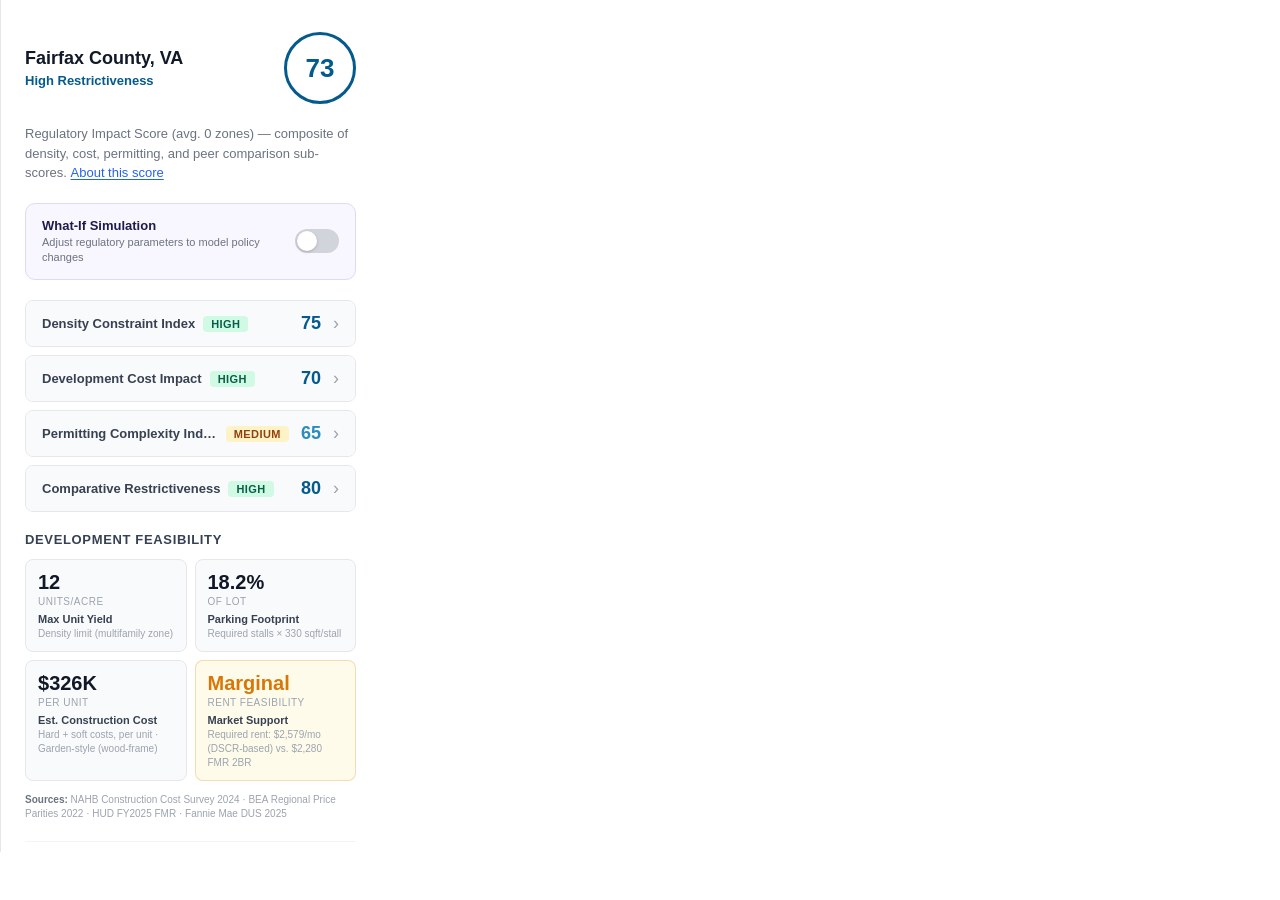
Test case: ScorePanel › shows disclaimer in methodology modal
The image size is (1280, 900).
Click the button "About this score" at (117, 172), box [70,165,164,180]
(page scrolled)
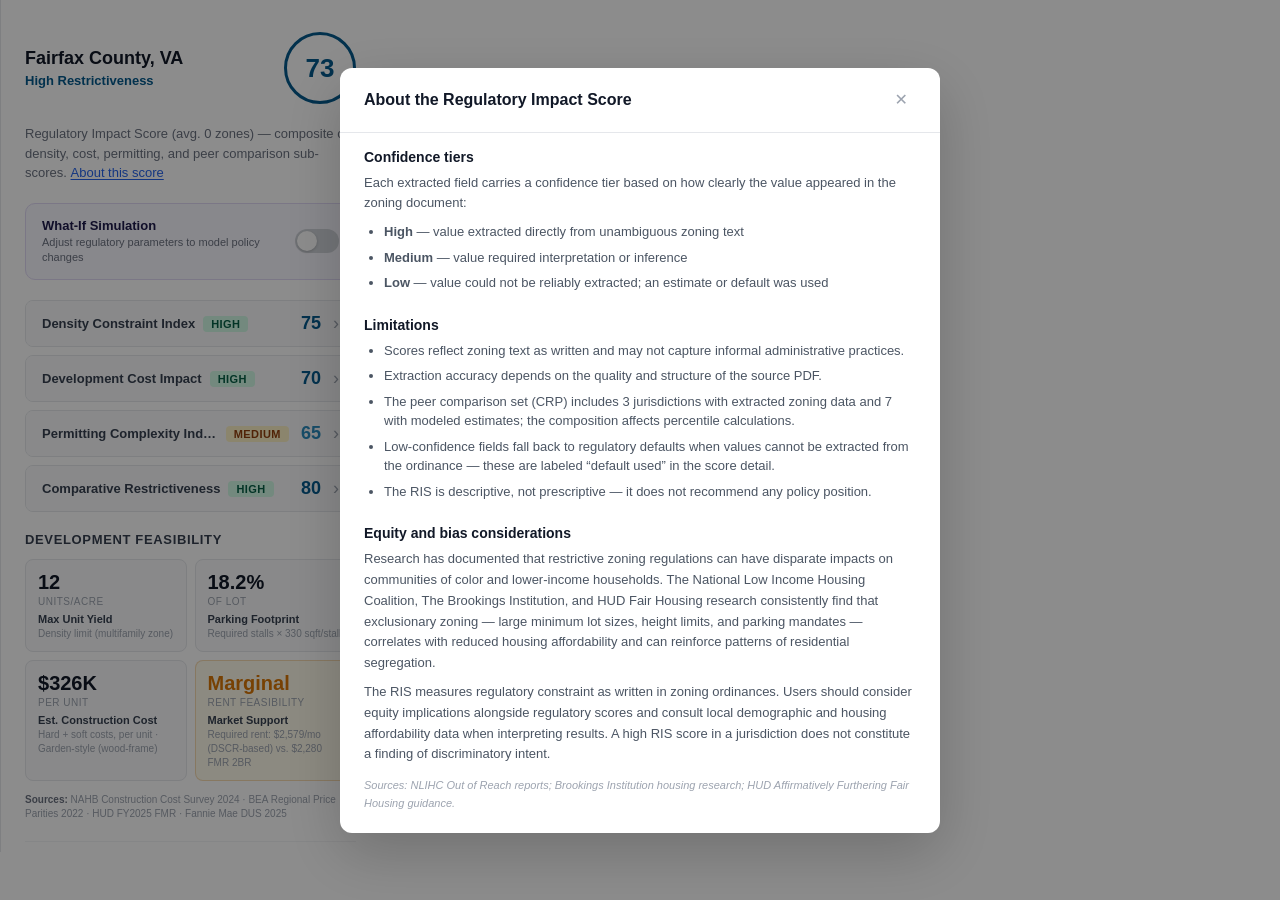
Now the list item "does not recommend any policy position" is shown, box [384,484,872,499]
